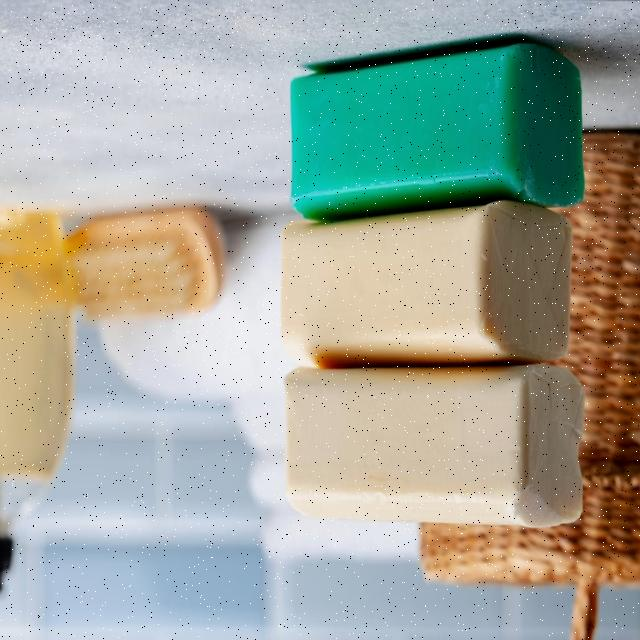soap: (281, 37, 591, 234), (276, 356, 594, 541), (274, 192, 588, 363)
